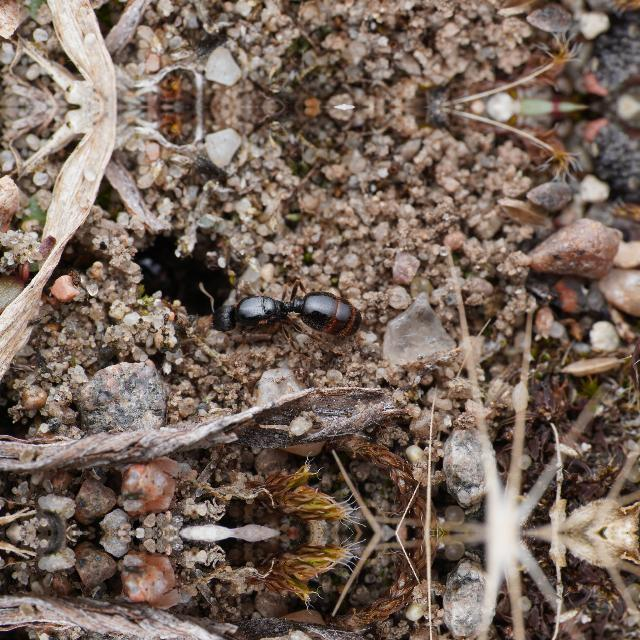Tetramorium: (187, 252, 373, 366)
